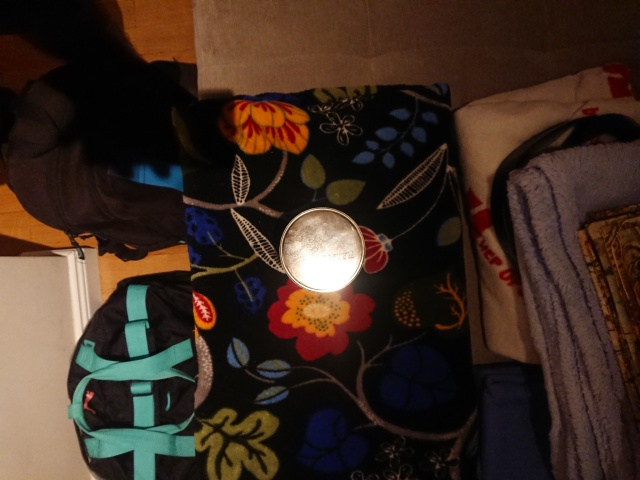Nescafe Classic 225g: (275, 204, 369, 295)
